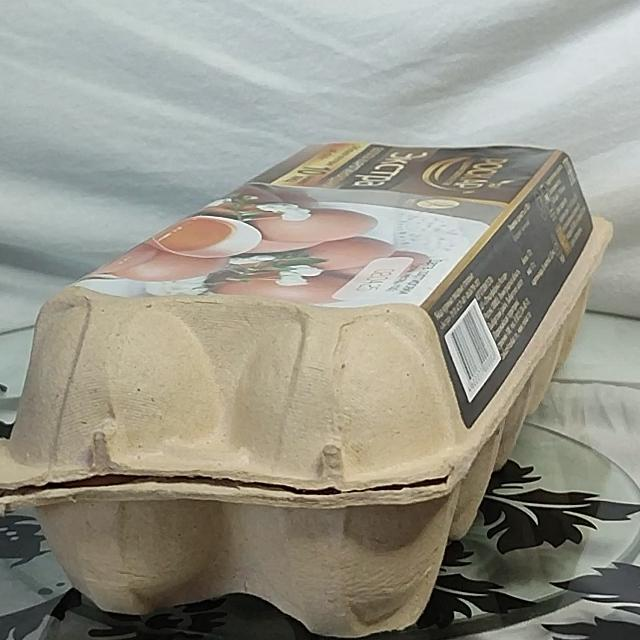egg: (0, 127, 610, 628)
